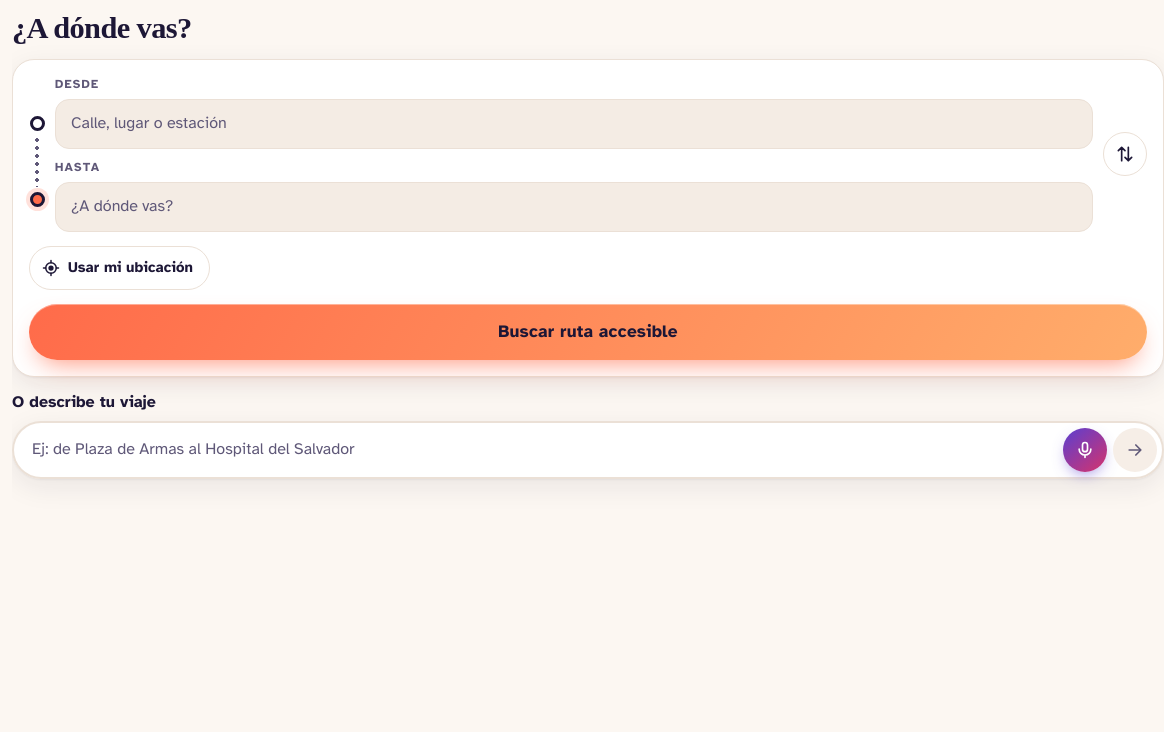
Scenario: SearchForm › says so when location is denied, and leaves the origin empty
Click the button "Usar mi ubicación" at [119, 268], box [29,246,210,290]
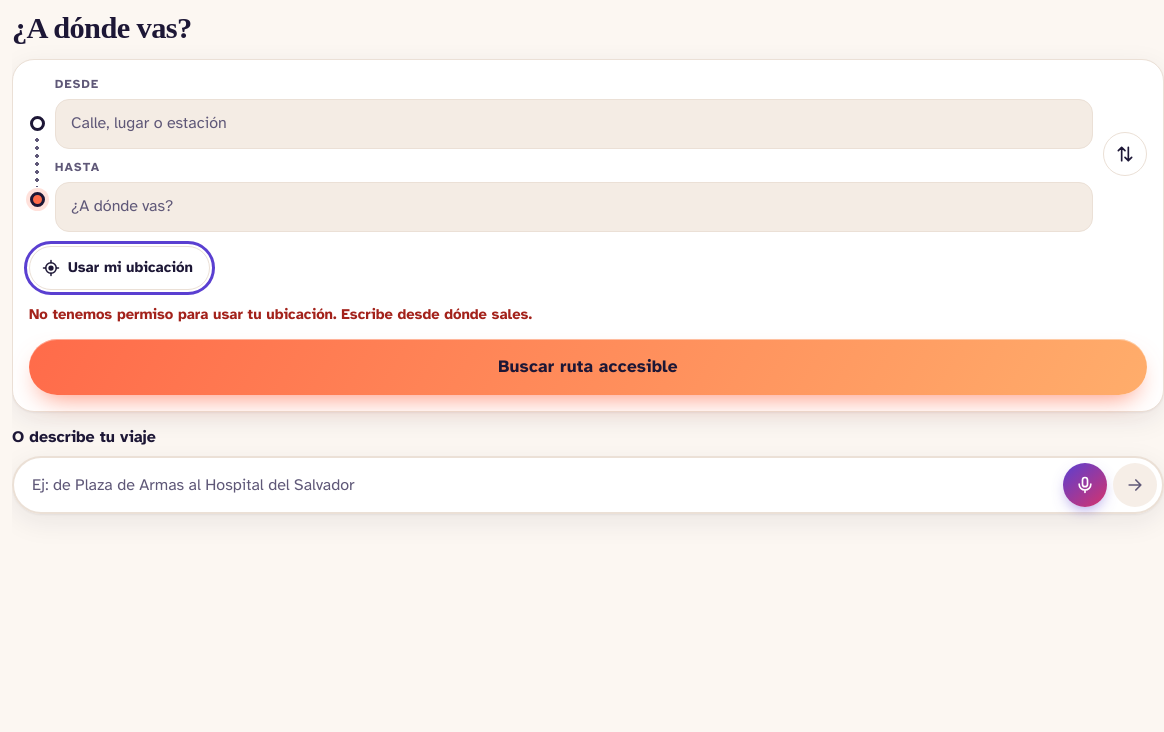
Expected: the dropdown labelled "Desde" is empty, [55,99,1093,149]
Now the message shows "No tenemos permiso para usar tu ubicación", box [29,305,532,323]
